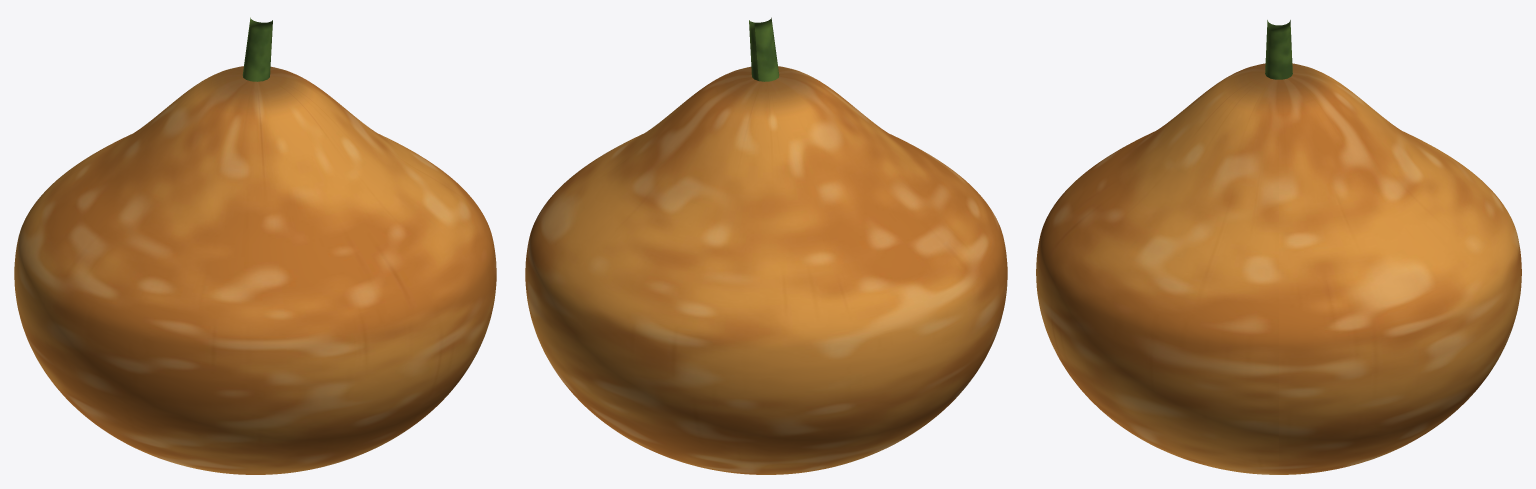
File: oignon.glb
The picture shows the model from 3 angles, left to right: view 1: azimuth 30°, elevation 25°; view 2: azimuth 150°, elevation 25°; view 3: azimuth 270°, elevation 25°; orthographic projection.
Parts seen in each view (by area): view 1: entier_peau, moitie_A_peau, moitie_B_peau, entier_extra0; view 2: entier_peau, moitie_B_peau, moitie_A_peau, entier_extra0; view 3: entier_peau, moitie_A_peau, moitie_B_peau, entier_extra0.
Part boxes in pixels (bbox=[...]): entier_peau: bbox=[15, 66, 496, 474]; moitie_A_peau: bbox=[50, 73, 496, 474]; moitie_B_peau: bbox=[14, 66, 426, 409]; entier_extra0: bbox=[242, 17, 272, 81]; entier_peau: bbox=[525, 66, 1006, 474]; moitie_B_peau: bbox=[525, 73, 971, 474]; moitie_A_peau: bbox=[594, 66, 1007, 407]; entier_extra0: bbox=[749, 17, 779, 81]; entier_peau: bbox=[1036, 64, 1521, 474]; moitie_A_peau: bbox=[1036, 63, 1277, 474]; moitie_B_peau: bbox=[1280, 63, 1521, 474]; entier_extra0: bbox=[1265, 20, 1292, 79].
Bounding box in the file's own units: 0.0464 × 0.0455 × 0.0464.
Materials: 3 (3 with a texture image).
